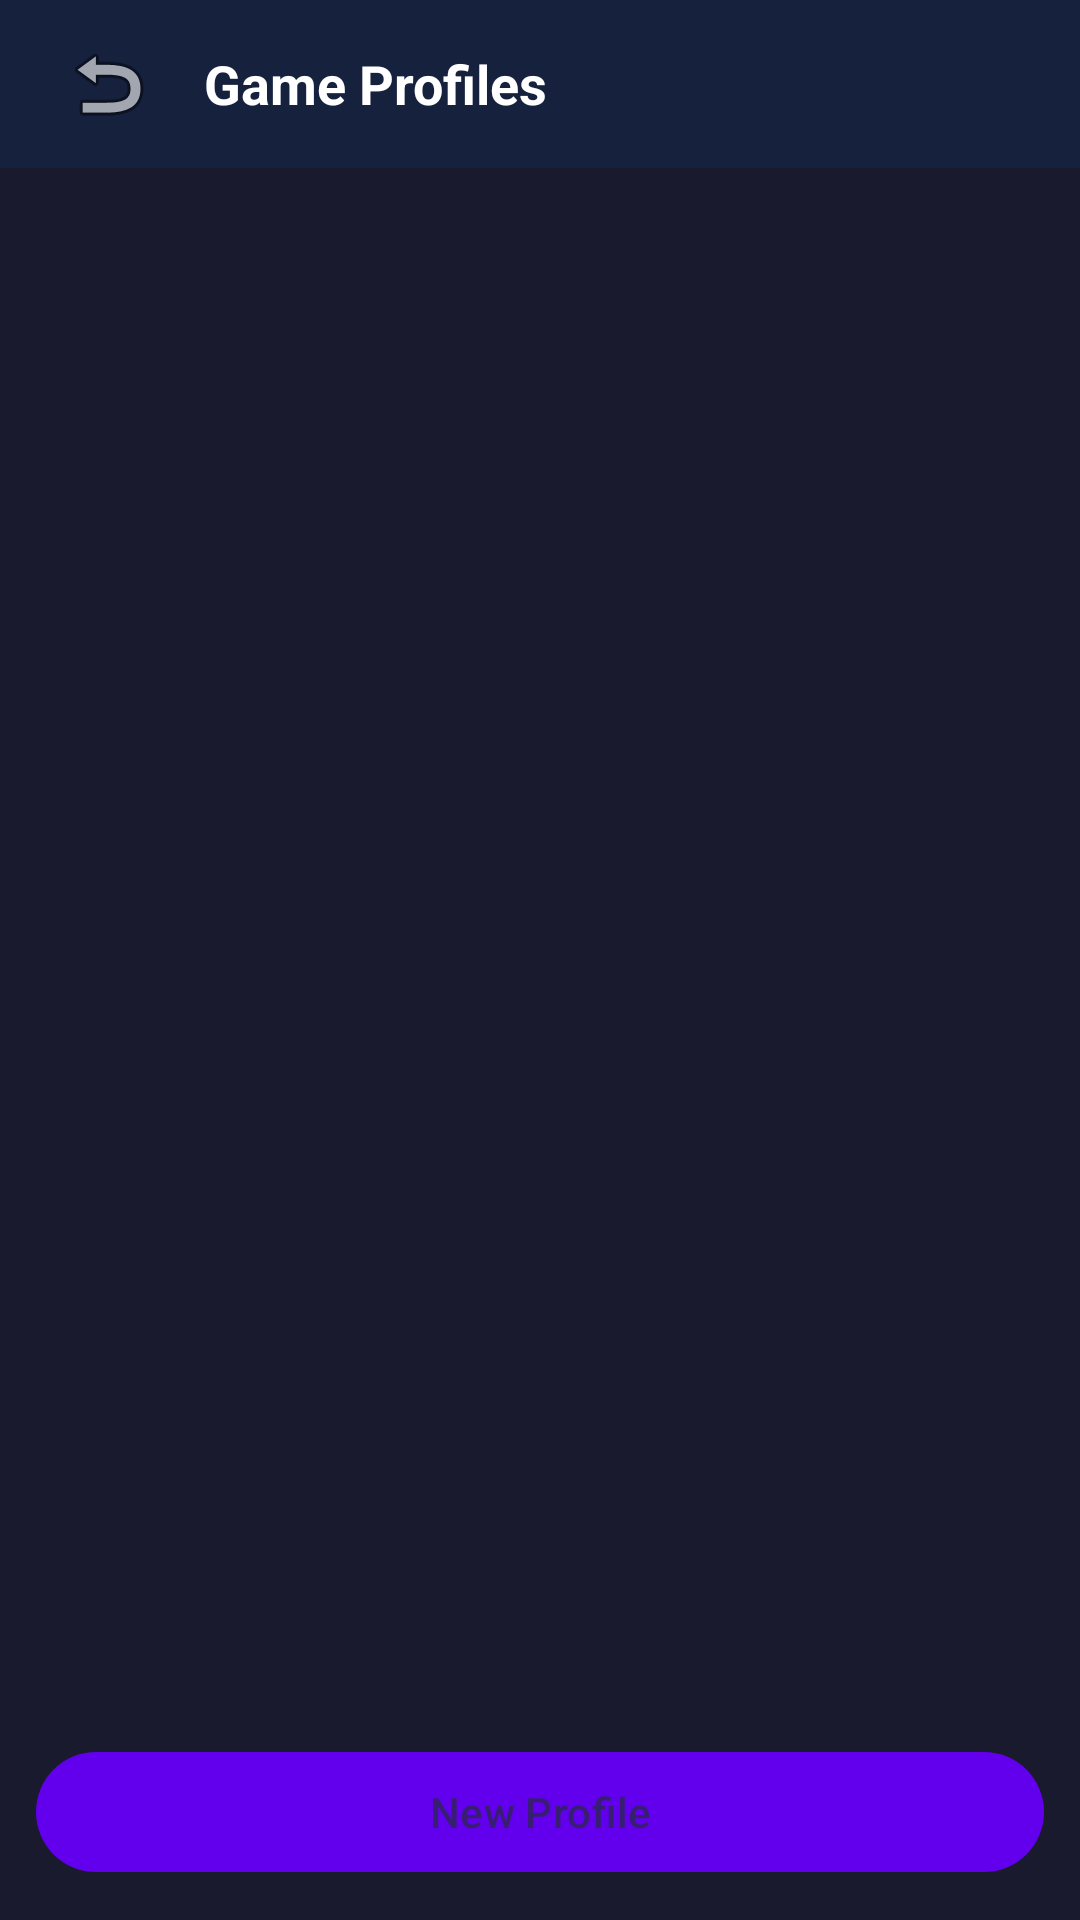

Named icons in this screenshot (1080*1920) and their centers, point (x, y):
Back: point (109, 84)
